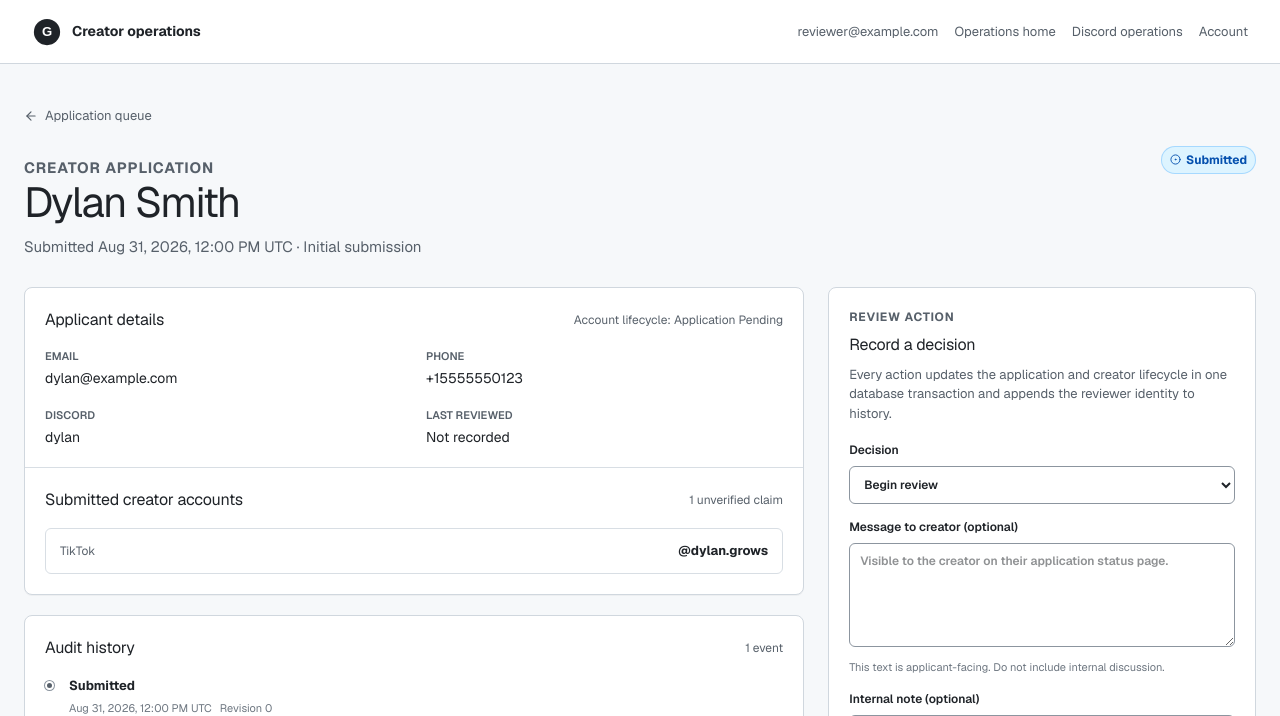
admin application review pages › blocks approval when no eligible active default deal exists
Step 1. Select "Approve application (deal blocked)" in the dropdown labelled "Decision" → (1042, 485), box [849, 466, 1235, 504]
(page scrolled)
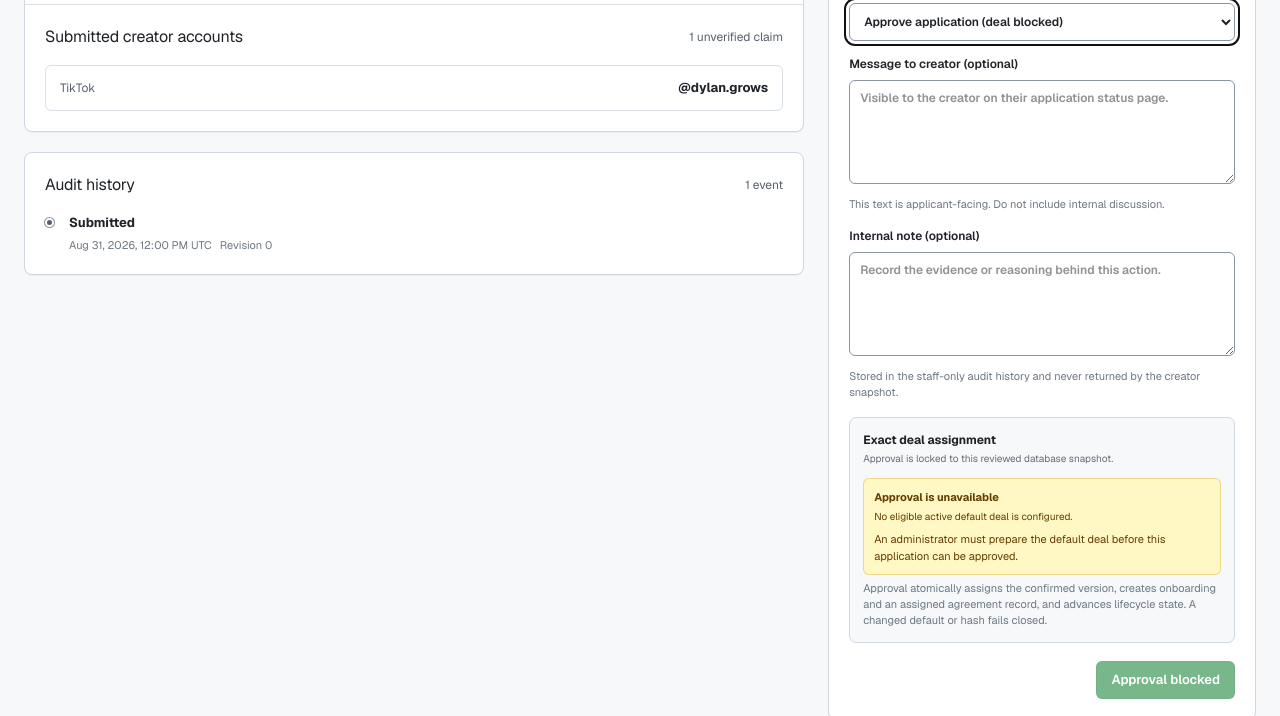
Now the message shows "No eligible active default deal", box [874, 510, 1072, 523]
Now the button "Approval blocked" is disabled, box [1096, 661, 1235, 699]
